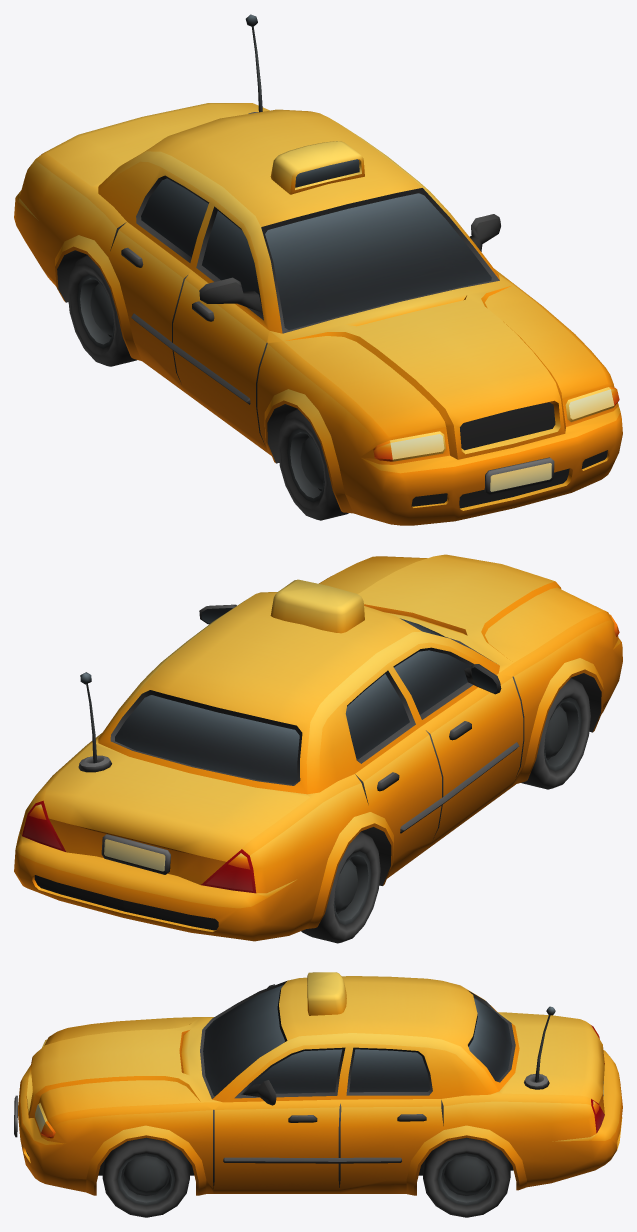
The model's file is VHC0110011.FBX.
3 views of the same model, one above another, from view 1: azimuth 30°, elevation 25°; view 2: azimuth 150°, elevation 25°; view 3: azimuth 270°, elevation 25° (orthographic). The views are drawn at different scales.
Parts seen in each view (by area): view 1: smVHC0110011; view 2: smVHC0110011; view 3: smVHC0110011.
Part boxes in pixels (left/top/right/bottom): smVHC0110011: left=14, top=14, right=622, bottom=525; smVHC0110011: left=14, top=554, right=622, bottom=943; smVHC0110011: left=14, top=972, right=622, bottom=1217.
Bounding box in the file's own units: 1.6 × 1.31 × 3.7.
Materials: 1 (1 with a texture image).
